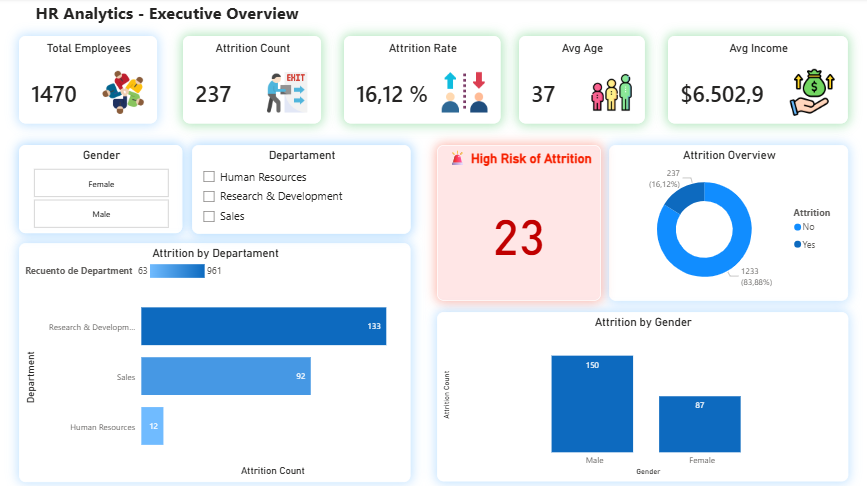

The page's visual inventory and layout, read from the dashboard file:
{"tool":"powerbi","page":{"name":"Executive Overview","canvas":[1280,720],"ordinal":0},"visuals":[{"type":"textbox","box":[51.7,0,421.7,50],"z":0},{"type":"cardVisual","title":"Total Employees","fields":{"Data":["Medidas.Total Employees"]},"box":[31.7,56.2,202.4,127.7],"z":1000},{"type":"cardVisual","title":"Attrition Count ","fields":{"Data":["Medidas.Attrition Count"]},"box":[271.5,56.2,202.4,127.7],"z":2000},{"type":"cardVisual","title":"Attrition Rate","fields":{"Data":["Medidas.Attrition Rate"]},"box":[508.2,56.2,228.9,127.7],"z":3000},{"type":"cardVisual","title":"Avg Age","fields":{"Data":["Medidas.Avegare Age"]},"box":[763.5,56.2,183.7,127.7],"z":4000},{"type":"cardVisual","title":"Avg Income","fields":{"Data":["Medidas.Average Monthly Income"]},"box":[981.5,56.2,263.2,127.7],"z":5000},{"type":"donutChart","title":"Attrition Overview","fields":{"Y":["Medidas.Total Employees"],"Category":["Employees.Attrition"]},"box":[895,215,350,228.3],"z":6000},{"type":"barChart","title":"Attrition by Departament","fields":{"Category":["Employees.Department"],"Y":["Medidas.Attrition Count"]},"box":[31.7,358.5,573.3,350],"z":7000},{"type":"card","title":"🚨 High Risk of Attrition","fields":{"Values":["Medidas.High Risk Employees"]},"box":[643.3,215,240,228.3],"z":8000},{"type":"columnChart","title":"Attrition by Gender","fields":{"Category":["Employees.Gender"],"Y":["Medidas.Attrition Count"]},"box":[643.3,460,601.7,248.3],"z":9000},{"type":"slicer","title":"Gender","fields":{"Values":["Employees.Gender"]},"box":[31.9,215.5,239.4,129.3],"z":10000},{"type":"slicer","title":"Departament","fields":{"Values":["Employees.Department"]},"box":[285,215,320,130],"z":11000}]}

Visuals, with their boxes in screenshot pixels (x1, y1, x2, y2), scaled from the page's 1280x720 canvas onto the 867x486 screenshot:
textbox: bbox=(35, 0, 321, 34)
"Total Employees" cardVisual: bbox=(21, 38, 159, 124)
"Attrition Count " cardVisual: bbox=(184, 38, 321, 124)
"Attrition Rate" cardVisual: bbox=(344, 38, 499, 124)
"Avg Age" cardVisual: bbox=(517, 38, 642, 124)
"Avg Income" cardVisual: bbox=(665, 38, 843, 124)
"Attrition Overview" donutChart: bbox=(606, 145, 843, 299)
"Attrition by Departament" barChart: bbox=(21, 242, 410, 478)
"🚨 High Risk of Attrition" card: bbox=(436, 145, 598, 299)
"Attrition by Gender" columnChart: bbox=(436, 310, 843, 478)
"Gender" slicer: bbox=(22, 145, 184, 233)
"Departament" slicer: bbox=(193, 145, 410, 233)
